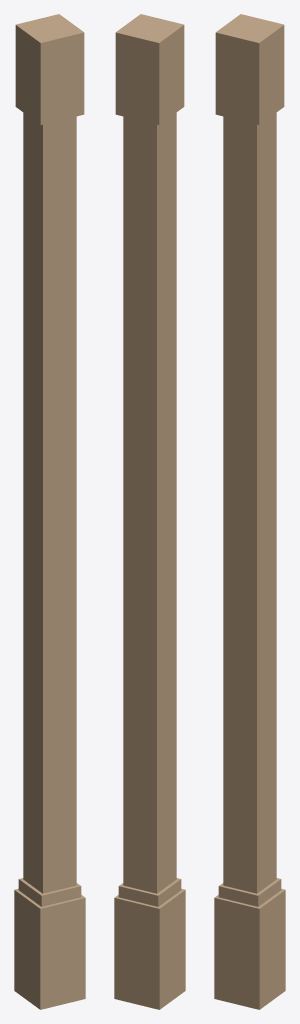
The model's file is schoolcolumn.fbx.
3 renders of one model, left to right at view 1: azimuth 30°, elevation 25°; view 2: azimuth 150°, elevation 25°; view 3: azimuth 330°, elevation 25°, orthographic.
Parts seen in each view (by area): view 1: column; view 2: column; view 3: column.
Part boxes in pixels (x1,y1,x2,y2): column: (14,14,85,1009); column: (114,14,185,1009); column: (214,14,285,1009).
Bounding box in the file's own units: 56.02 × 1141 × 56.02.
1 material, 1 textured.
